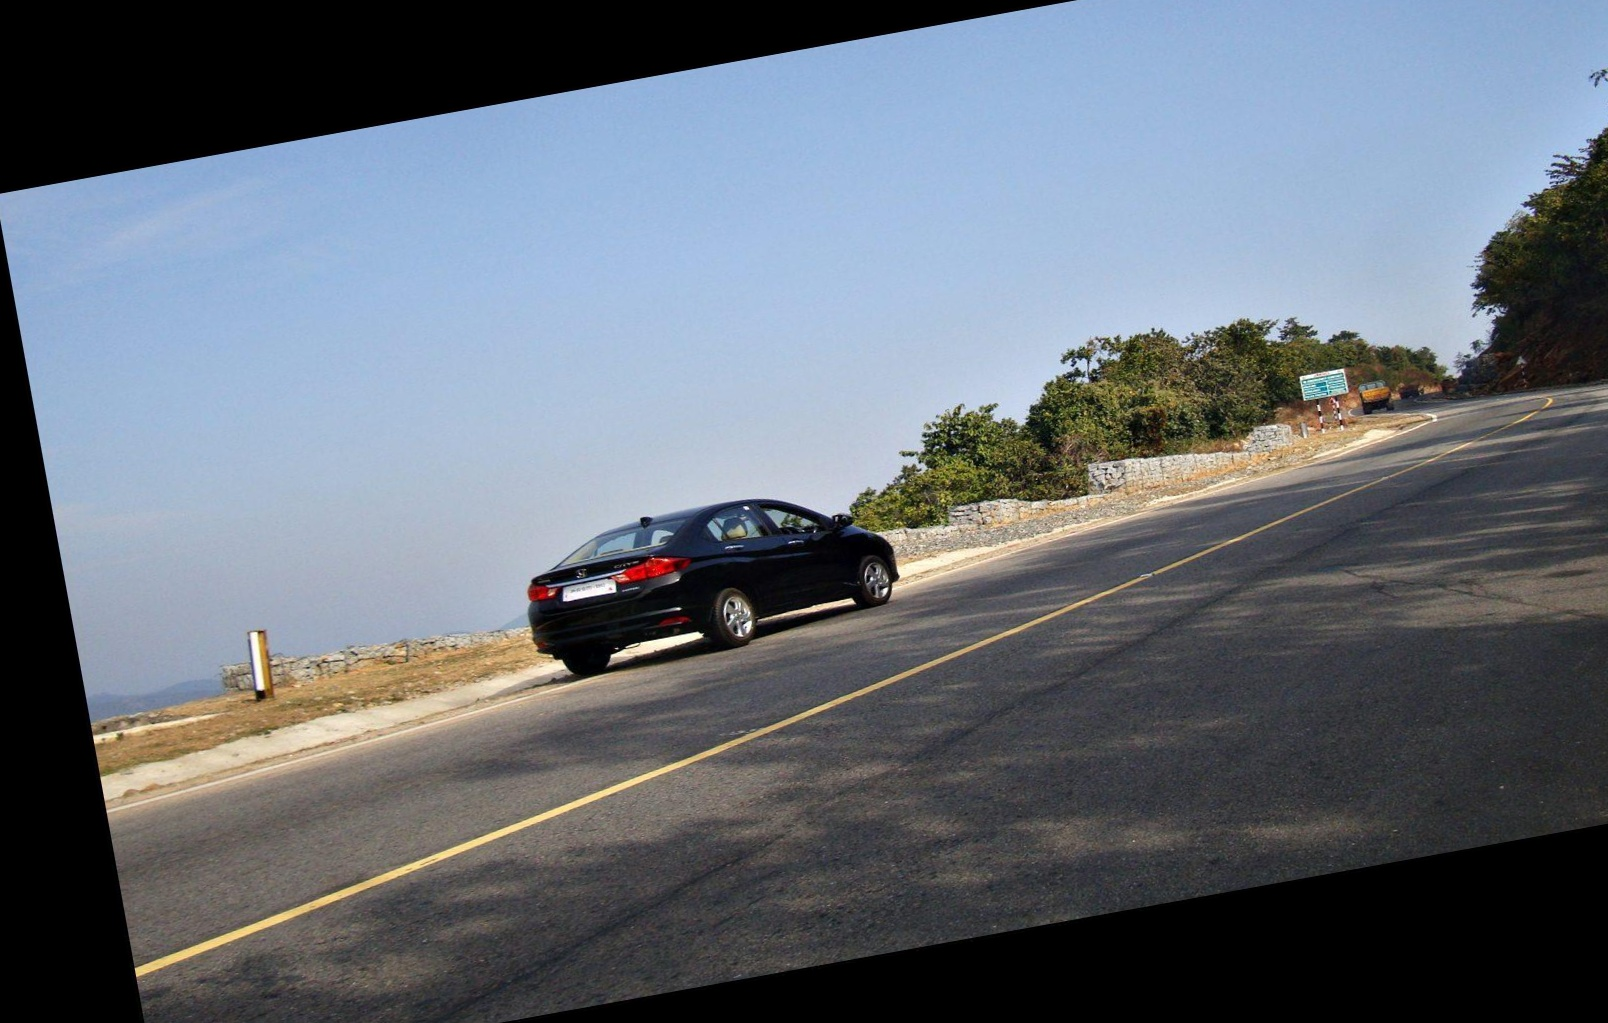car: (452, 434, 948, 731)
